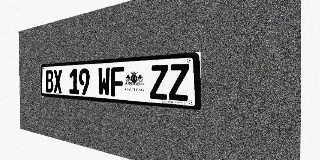1: (69, 69, 79, 94)
9: (79, 68, 90, 95)
B: (45, 70, 53, 93)
F: (110, 67, 124, 97)
W: (98, 67, 110, 96)
X: (53, 69, 62, 93)
Z: (169, 64, 189, 101), (150, 65, 168, 100)
